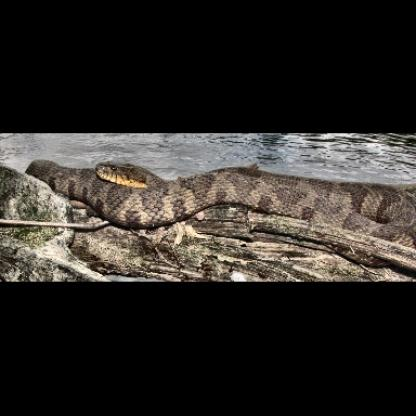Snake: (9, 155, 415, 239)
